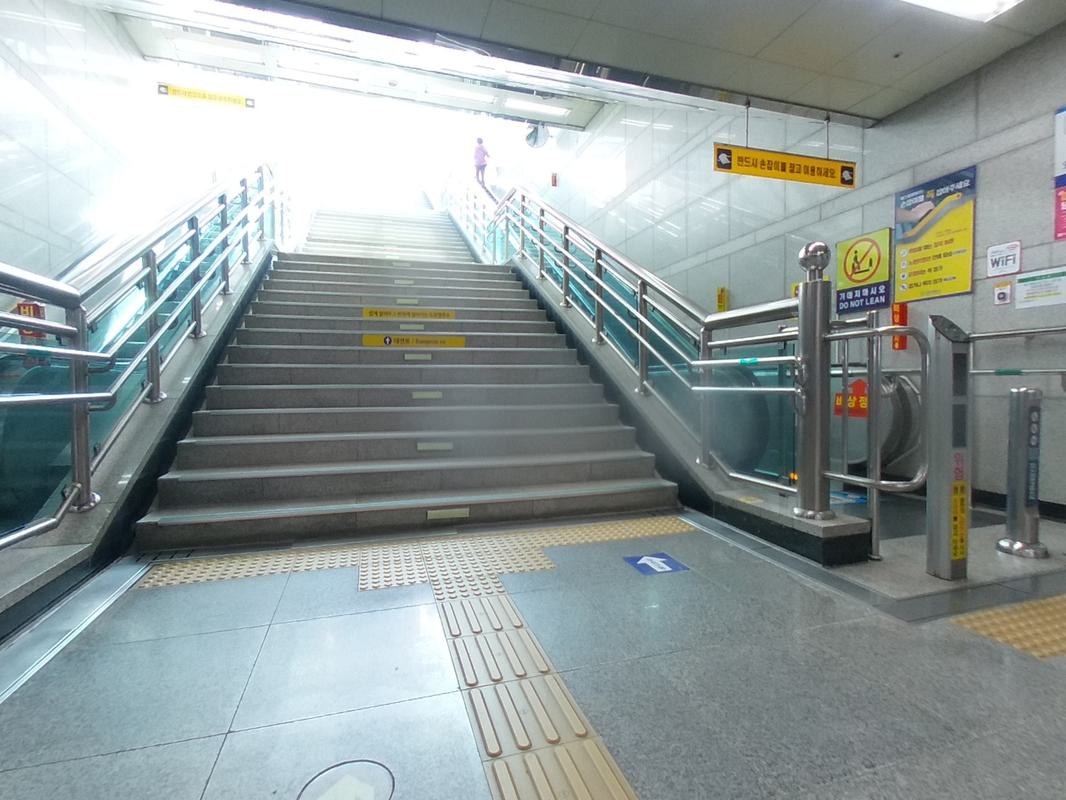building: (2, 0, 1061, 795)
glass door: (701, 302, 804, 498)
person: (469, 135, 495, 189)
rail: (1, 162, 280, 551), (490, 187, 803, 492)
stairs: (133, 192, 679, 549)
stairwell: (133, 202, 679, 549)
subway station: (2, 0, 1061, 795)
woman: (469, 125, 495, 189)
